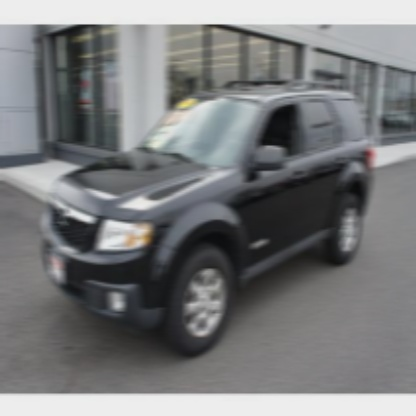Vehicle: (38, 74, 372, 356)
